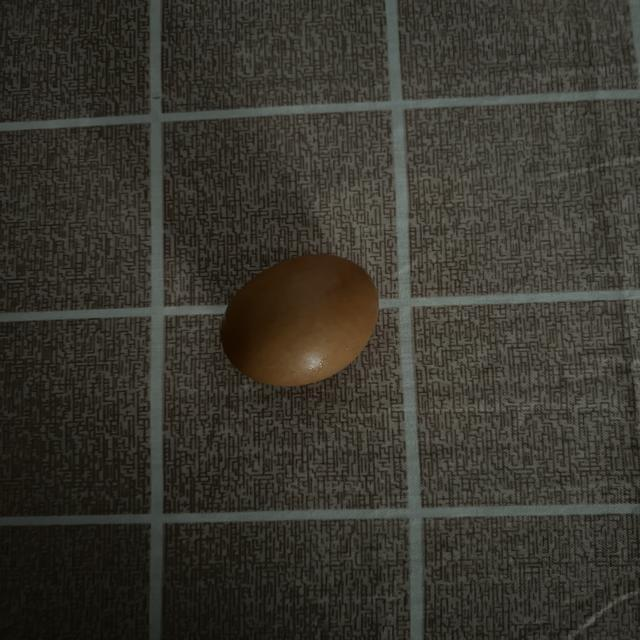egg: (200, 245, 404, 400)
